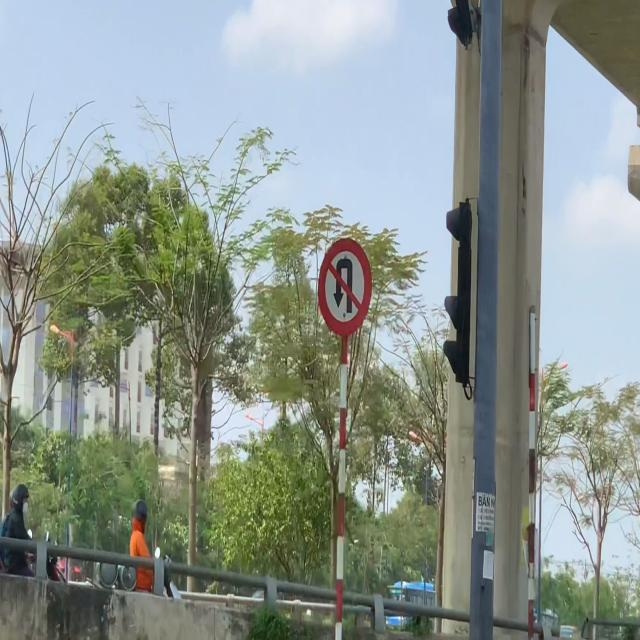Cam quay dau xe: (316, 235, 376, 337)
